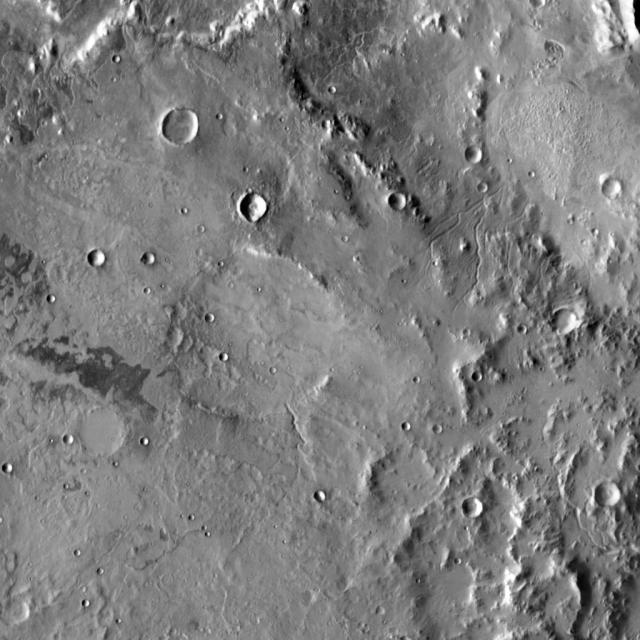crater: (370, 446, 444, 515), (77, 407, 126, 458), (162, 108, 199, 144), (1, 598, 31, 626), (239, 194, 267, 221), (552, 309, 580, 334), (594, 482, 621, 507), (601, 178, 622, 199), (462, 497, 483, 518), (389, 192, 407, 210), (465, 146, 483, 163), (87, 250, 105, 266), (302, 588, 317, 604), (141, 252, 155, 266), (329, 487, 342, 499), (160, 574, 173, 586), (20, 272, 32, 284), (0, 396, 9, 412), (4, 256, 16, 268), (383, 554, 394, 566), (314, 491, 326, 502), (164, 305, 175, 316), (531, 0, 546, 8), (472, 371, 482, 382), (63, 434, 74, 444), (161, 412, 171, 422), (2, 463, 12, 473), (517, 324, 527, 334), (432, 424, 442, 434), (478, 183, 488, 193), (205, 313, 214, 323), (401, 422, 411, 431), (166, 16, 175, 25), (376, 606, 385, 615), (168, 628, 178, 636), (321, 120, 331, 128), (46, 295, 56, 303), (220, 352, 228, 362), (252, 616, 260, 625), (140, 438, 149, 446), (159, 633, 169, 640), (232, 625, 240, 633), (5, 135, 13, 143), (357, 622, 365, 630), (328, 86, 336, 94), (197, 225, 205, 233), (112, 55, 120, 63), (82, 600, 90, 608), (42, 500, 50, 507), (54, 633, 62, 640), (206, 254, 213, 262), (591, 228, 599, 235), (196, 248, 203, 256), (463, 329, 471, 336), (528, 170, 535, 178), (163, 193, 170, 200), (385, 593, 392, 600), (215, 113, 222, 120), (413, 376, 420, 383), (180, 634, 188, 640), (204, 628, 212, 634), (454, 558, 462, 564), (180, 208, 188, 214), (245, 602, 252, 608), (508, 431, 515, 437), (261, 378, 268, 384), (341, 236, 348, 242), (97, 568, 104, 574), (270, 367, 276, 374), (400, 636, 410, 640), (146, 191, 152, 197), (353, 256, 359, 262), (30, 299, 36, 305), (269, 431, 275, 437), (618, 275, 624, 281), (219, 10, 225, 16), (43, 273, 49, 279), (363, 626, 369, 632), (331, 276, 337, 282), (80, 586, 86, 592), (205, 531, 211, 537), (63, 483, 69, 489), (463, 3, 469, 9), (246, 188, 252, 194), (74, 550, 80, 556), (144, 288, 150, 294), (218, 261, 224, 267), (81, 468, 87, 474), (370, 119, 376, 124), (94, 559, 100, 564), (10, 473, 16, 478), (203, 526, 208, 532), (367, 599, 372, 605), (368, 608, 373, 614), (344, 195, 350, 200), (350, 165, 356, 170), (123, 514, 128, 520), (201, 525, 207, 530), (20, 390, 25, 396), (607, 258, 612, 264), (243, 167, 249, 172), (581, 239, 586, 245), (116, 618, 121, 624), (189, 514, 194, 520), (228, 283, 234, 288), (198, 627, 203, 632), (143, 582, 148, 587), (482, 25, 487, 30), (32, 27, 37, 32), (273, 524, 278, 529), (42, 121, 47, 126), (279, 117, 284, 122), (513, 475, 518, 480), (8, 41, 13, 46), (329, 367, 334, 372), (568, 219, 573, 224), (507, 158, 512, 163), (466, 199, 470, 205), (38, 144, 44, 148), (502, 368, 508, 372), (578, 332, 584, 336), (391, 490, 397, 494), (175, 408, 179, 413), (288, 598, 292, 603), (234, 619, 239, 623), (362, 425, 367, 429), (346, 37, 351, 41), (446, 6, 450, 11), (84, 176, 89, 180), (116, 155, 121, 159), (132, 206, 137, 210), (334, 189, 338, 194), (359, 365, 364, 369), (401, 52, 405, 57), (559, 107, 564, 111), (213, 574, 218, 578), (506, 314, 511, 318), (285, 126, 289, 131), (282, 539, 286, 544), (433, 262, 438, 266), (62, 495, 67, 499), (28, 562, 32, 567), (112, 77, 116, 82), (113, 462, 118, 466), (464, 526, 468, 531), (184, 446, 188, 450), (29, 577, 33, 581), (156, 558, 160, 562), (139, 204, 143, 208), (610, 232, 614, 236), (75, 498, 79, 502), (158, 575, 162, 579), (160, 284, 164, 288), (382, 620, 386, 624), (180, 514, 184, 518), (41, 260, 45, 264), (260, 361, 264, 365), (49, 438, 53, 442), (540, 367, 544, 371), (40, 518, 44, 522), (85, 491, 89, 495), (397, 322, 401, 326), (257, 288, 261, 292), (416, 579, 420, 583), (154, 501, 158, 505), (96, 504, 100, 508), (35, 496, 39, 500), (402, 279, 406, 283), (0, 178, 3, 183), (0, 516, 2, 523)
